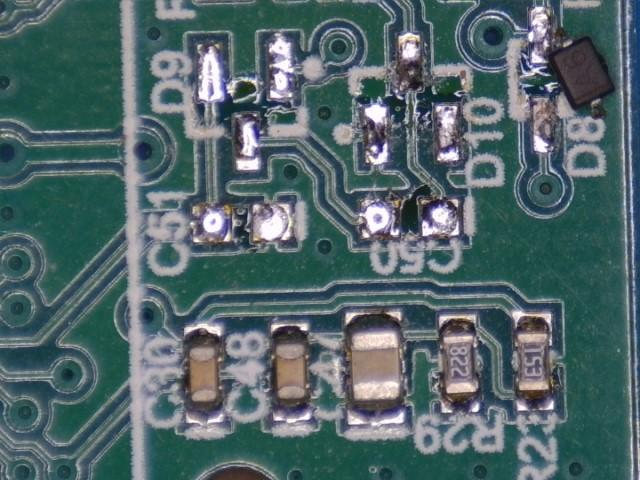Incorrect_installation: (530, 8, 617, 121)
